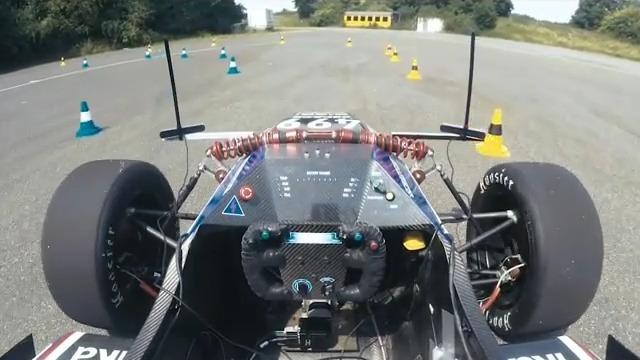blue_cone: (75, 101, 103, 138), (227, 56, 241, 74), (219, 46, 228, 59)
yellow_cone: (475, 108, 511, 157), (406, 58, 423, 80), (391, 48, 401, 62)
